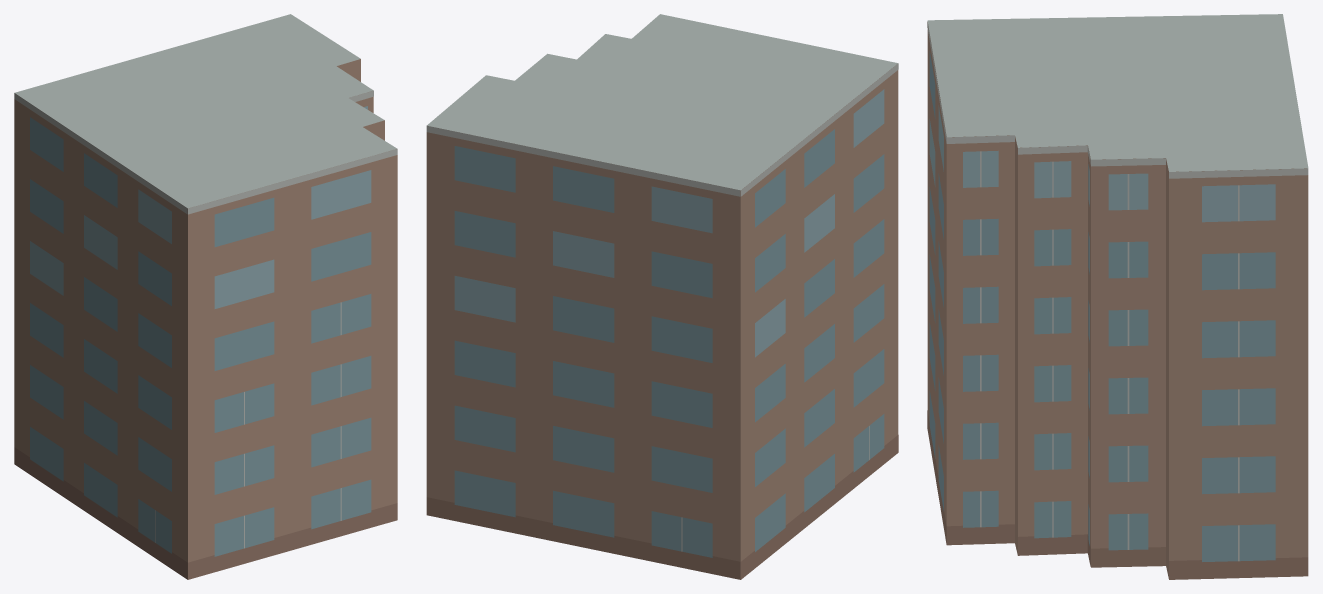
File: survey-upis-32887461.glb
The picture shows the model from 3 angles, left to right: view 1: azimuth 30°, elevation 25°; view 2: azimuth 150°, elevation 25°; view 3: azimuth 270°, elevation 25°; orthographic projection. The views are drawn at different scales.
Parts seen in each view (by area): view 1: survey-upis-32887461.tmp; view 2: survey-upis-32887461.tmp; view 3: survey-upis-32887461.tmp.
Part boxes in pixels (<box>): survey-upis-32887461.tmp: <box>14,14,397,579</box>; survey-upis-32887461.tmp: <box>426,14,898,579</box>; survey-upis-32887461.tmp: <box>927,14,1308,579</box>.
Size of the model in its own units: 12.18 by 14.65 by 12.41.
